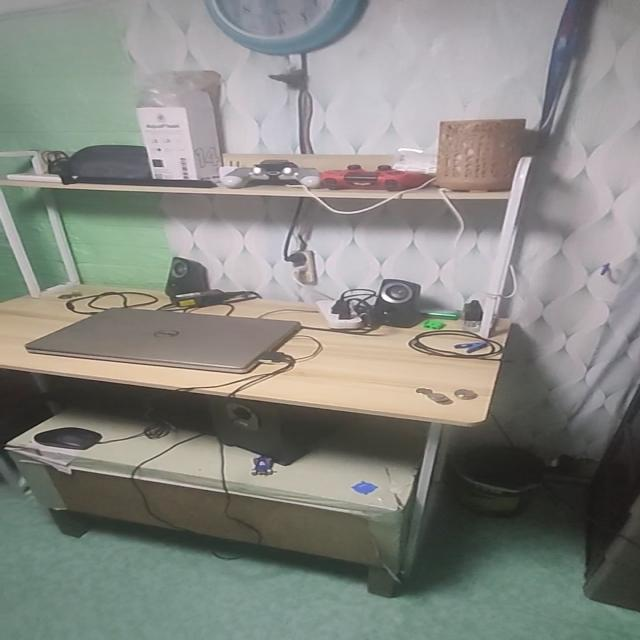table: (0, 278, 529, 601)
